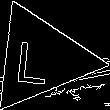L_N: (21, 31, 61, 85)
